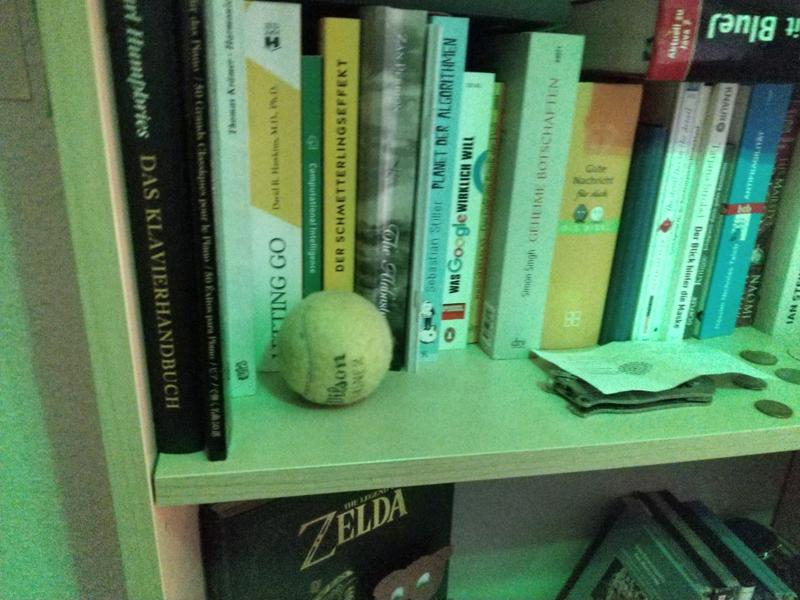Tennisball: (274, 285, 395, 414)
